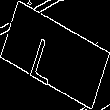L_NE: (37, 26, 73, 84)
